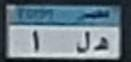1: (28, 30, 45, 53)
haa: (93, 36, 110, 52)
laam: (75, 28, 92, 54)
